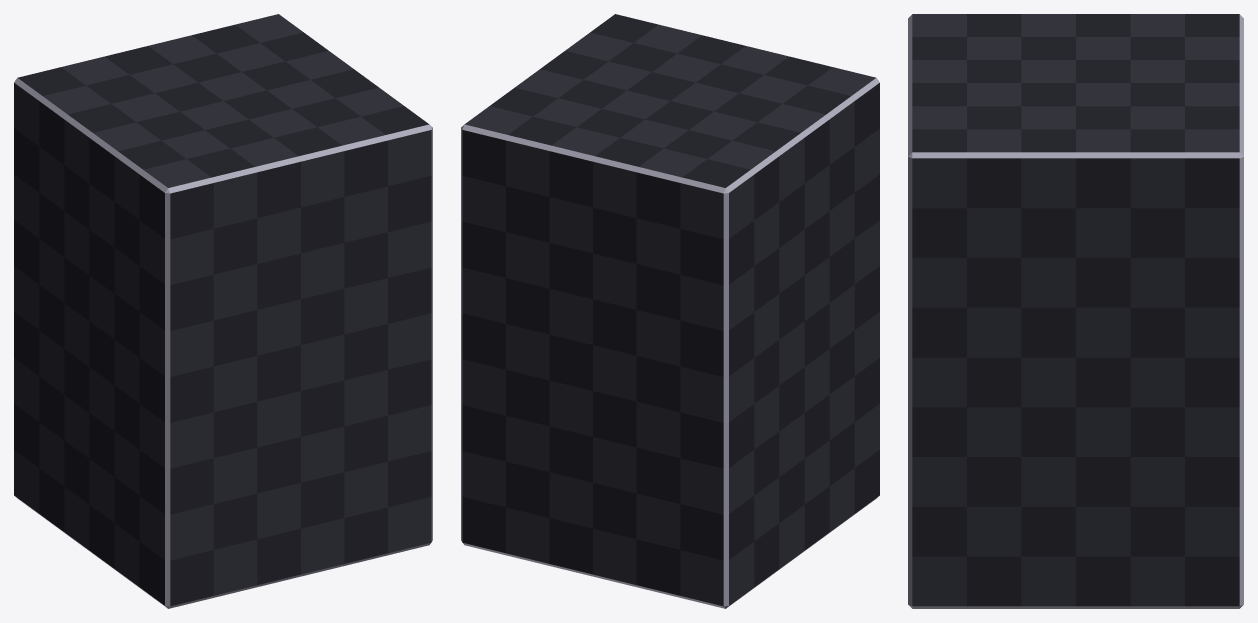
Rendered from PMP-M-Ground-Main-2x2x3-V1.fbx.
3 views of the same model, side by side, from view 1: azimuth 30°, elevation 25°; view 2: azimuth 150°, elevation 25°; view 3: azimuth 270°, elevation 25° (orthographic). The views are drawn at different scales.
Parts seen in each view (by area): view 1: MONO_Terrain-A-2x2x3; view 2: MONO_Terrain-A-2x2x3; view 3: MONO_Terrain-A-2x2x3.
Part boxes in pixels (x1=…): MONO_Terrain-A-2x2x3: x1=14, y1=14, x2=432, y2=608; MONO_Terrain-A-2x2x3: x1=461, y1=14, x2=879, y2=608; MONO_Terrain-A-2x2x3: x1=908, y1=14, x2=1243, y2=608.
Size of the model in its own units: 200 by 300 by 200.
